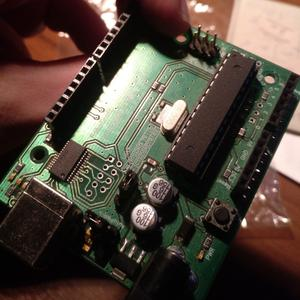duino: (12, 12, 296, 286)
